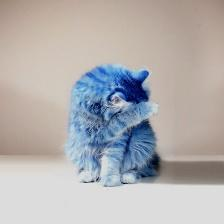kedo: (67, 63, 162, 186)
